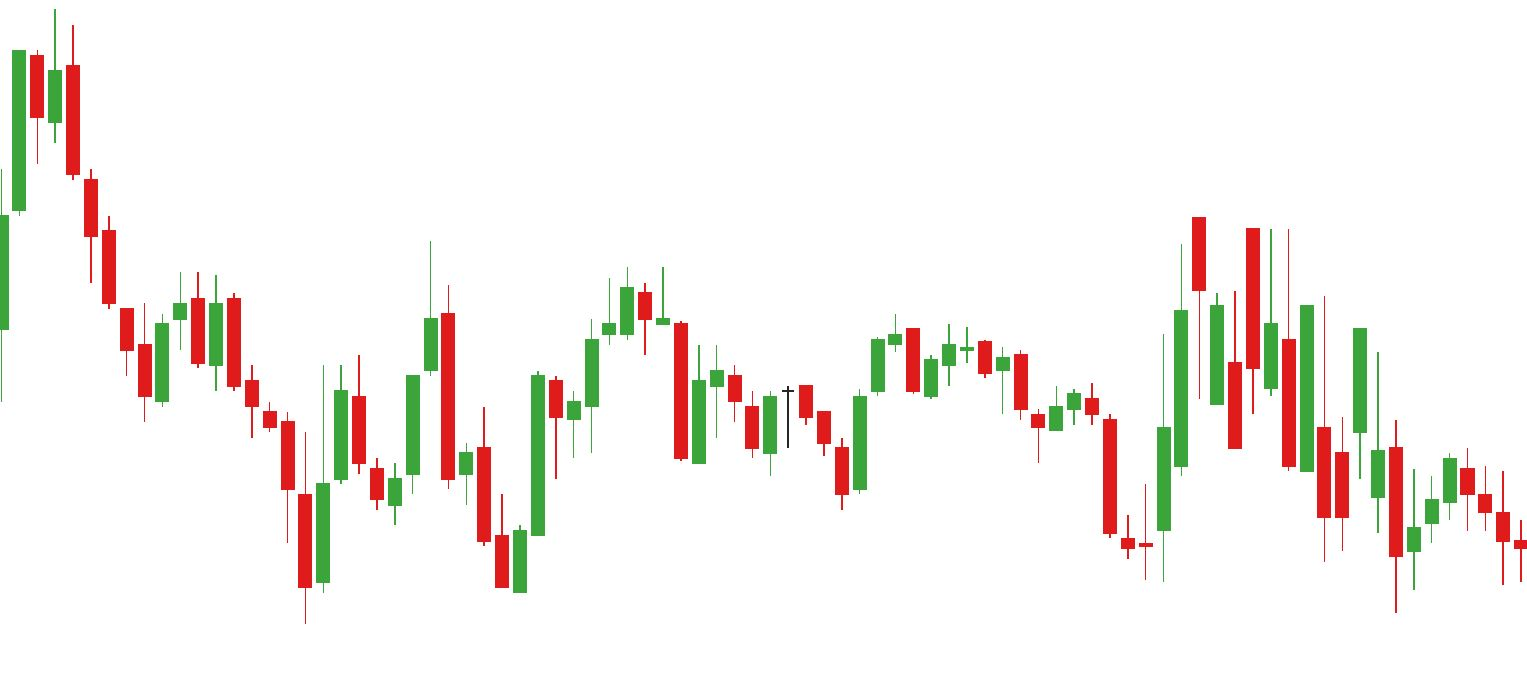sell: (187, 235, 456, 429), (690, 315, 922, 417)
